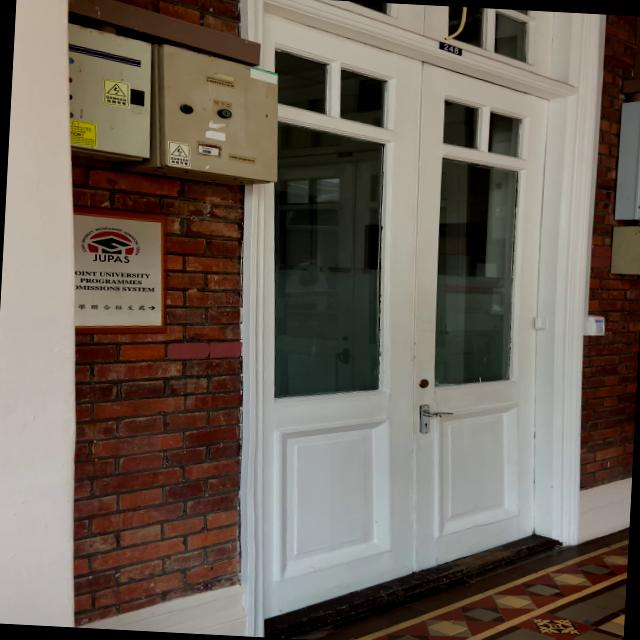room248: (434, 38, 466, 58)
